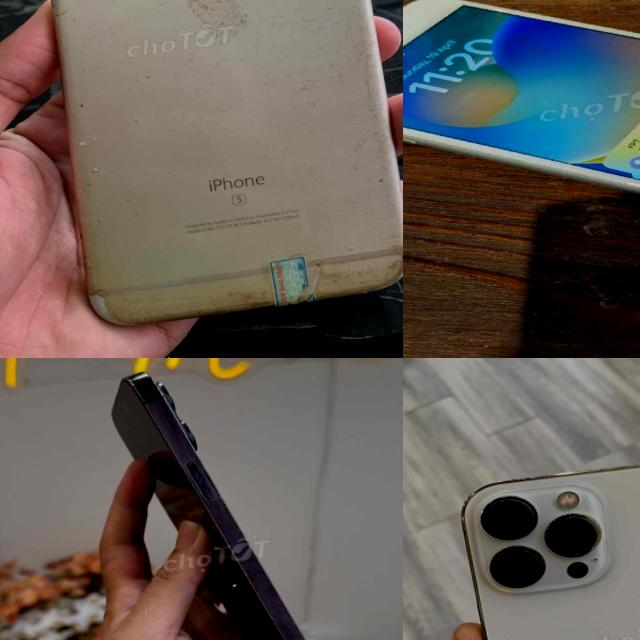gen_12_13: (448, 443, 640, 640)
gen_14: (97, 358, 342, 640)
gen_6: (12, 0, 403, 337)
gen_7_8: (403, 0, 640, 288)
